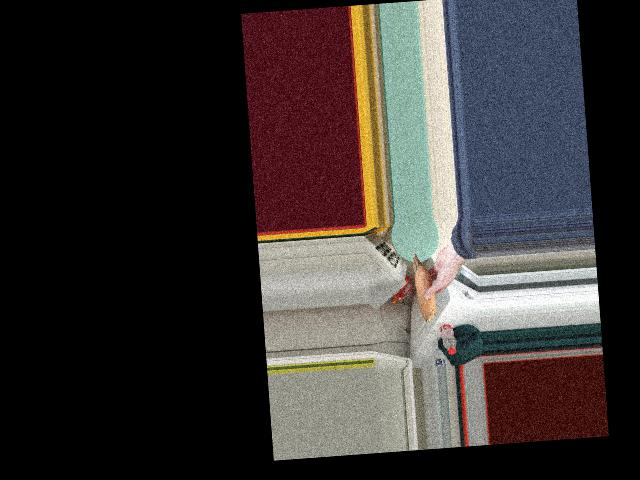sweet_potato: (412, 251, 436, 318)
